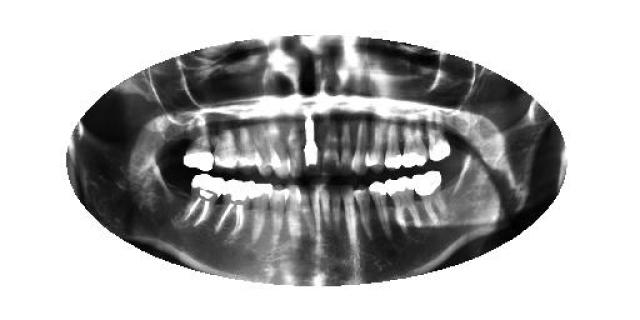Fillings: (412, 170, 446, 225), (386, 176, 420, 230), (246, 182, 274, 246), (370, 180, 394, 240), (400, 119, 428, 169), (184, 129, 212, 171)
Implant: (176, 172, 225, 228), (216, 178, 255, 236), (301, 119, 319, 171)
